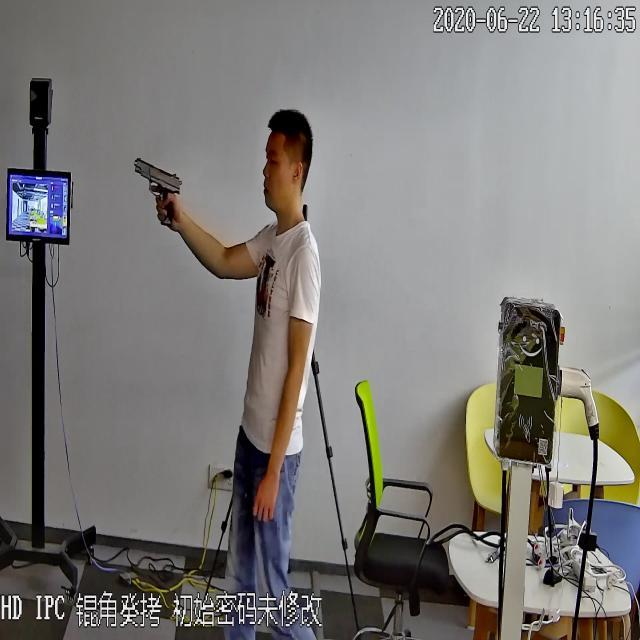gun-knife-thesis - v11 Yolov5 augmented: (131, 142, 183, 234)
